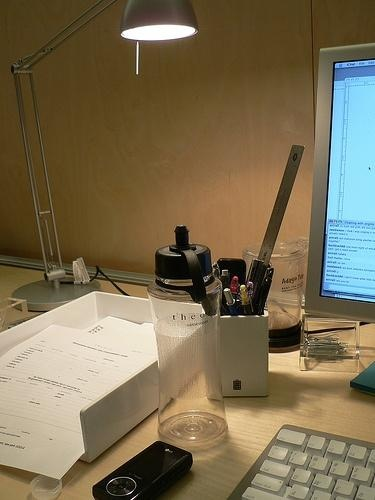bottle: (148, 223, 231, 450)
tvmonitor: (303, 40, 375, 324)
